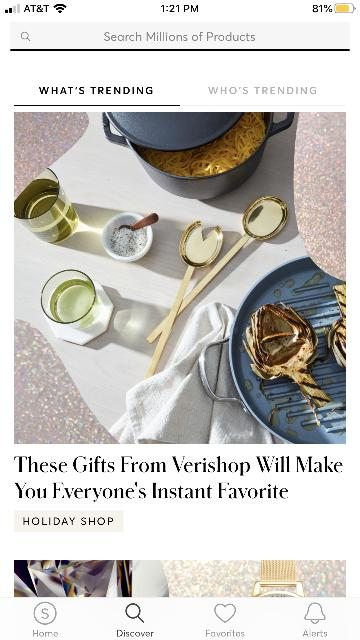Bottom_Navigation: (0, 598, 360, 640)
EditText: (11, 22, 350, 52)
Icon: (34, 602, 56, 624), (304, 602, 326, 624), (214, 604, 236, 622), (126, 604, 144, 622), (21, 31, 31, 41)
Image: (14, 112, 346, 444), (14, 560, 346, 596)
Multi_Tab: (15, 76, 346, 106)
Text: (14, 455, 342, 501), (103, 32, 255, 40), (39, 86, 153, 94), (208, 86, 316, 94), (23, 518, 112, 524), (206, 630, 244, 636), (117, 630, 153, 636), (32, 630, 57, 636), (303, 630, 327, 636)
TextImageButton: (206, 604, 244, 636), (117, 604, 153, 636), (32, 602, 57, 636), (303, 602, 327, 636)
UpperTaskBar: (0, 0, 360, 14)
